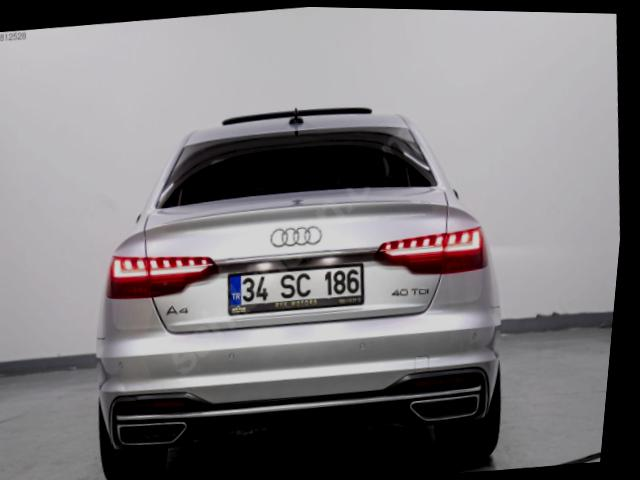plaka: (228, 264, 363, 315)
